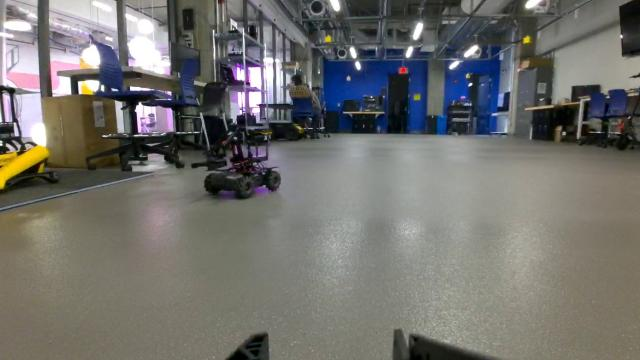robot: (199, 122, 290, 202)
